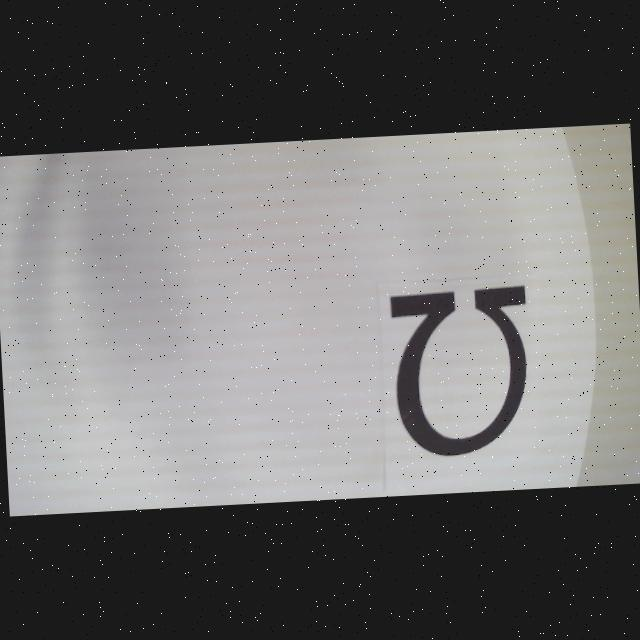OMEGA: (388, 284, 534, 458)
